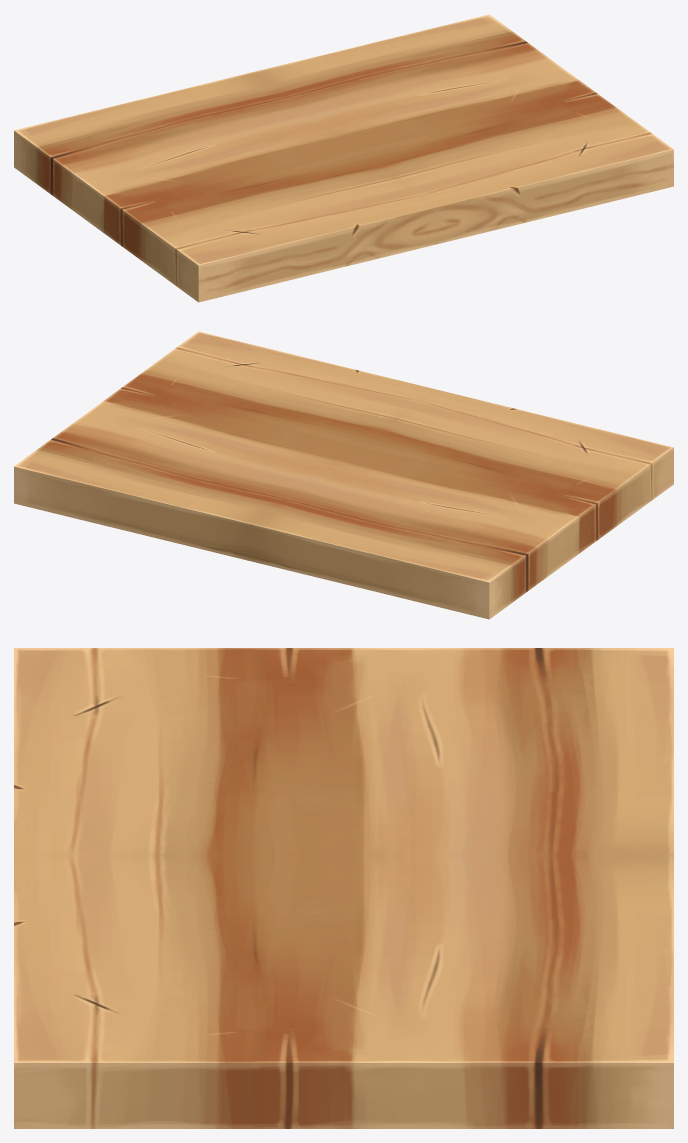
3 views of the same model, one above another, from view 1: azimuth 30°, elevation 25°; view 2: azimuth 150°, elevation 25°; view 3: azimuth 270°, elevation 25° (orthographic). The views are drawn at different scales.
Visible parts, largest first — view 1: CuttingBoard; view 2: CuttingBoard; view 3: CuttingBoard.
Part boxes in pixels (x1,y1,x2,y2): CuttingBoard: [14, 14, 673, 302]; CuttingBoard: [14, 331, 673, 619]; CuttingBoard: [14, 648, 673, 1128].
Size of the model in its own units: 0.8858 by 0.0658 by 0.5957.
1 material, 1 textured.
